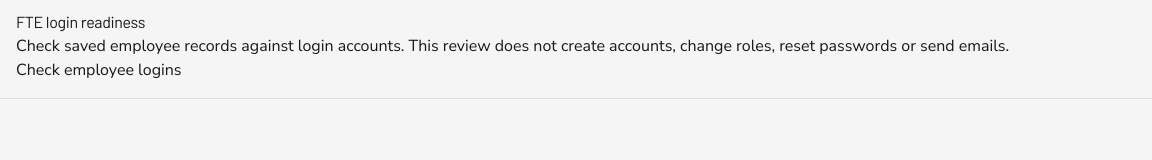
Test: review errors are retryable and account switching hides previous employee data
Later steps or results of the test are not shown.
What coordinates should you click on to do the following:
click the button "Check employee logins"
I would click on:
 (99, 70)
Its box is 16,58 -> 182,82.
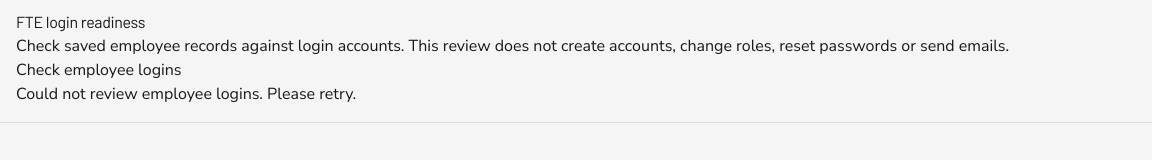
Expected: the message "Could not review employee logins. Please retry." is shown, 16,83 -> 356,105
